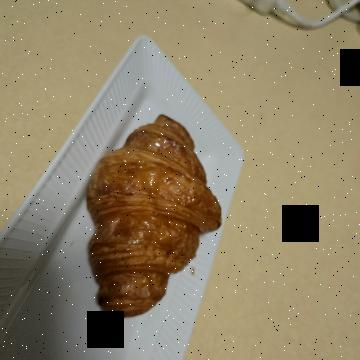croissant: (102, 134, 328, 290)
